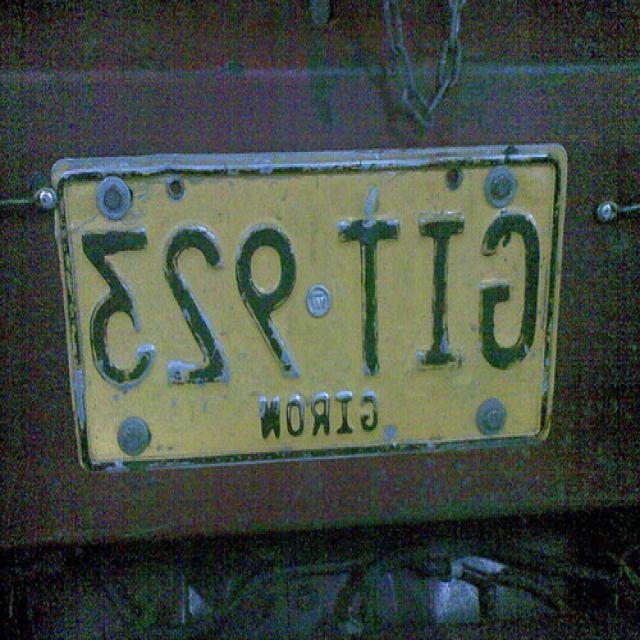placas: (69, 199, 550, 405)
